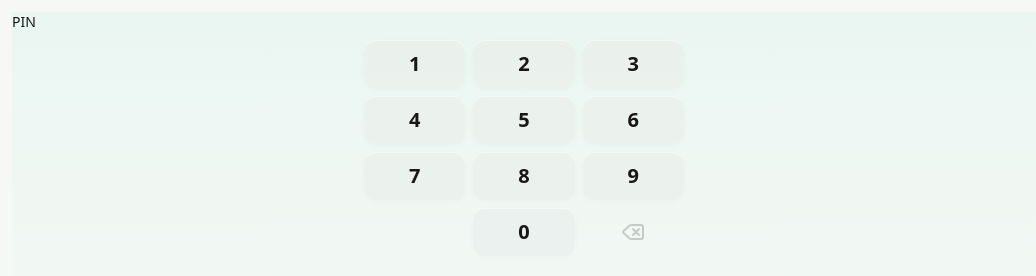
Test case: PinKeypad › enters, limits and deletes digits without a text input
This screenshot has width=1036, height=276.
Click the button "4" at [415, 120], box [364,96,465,144]
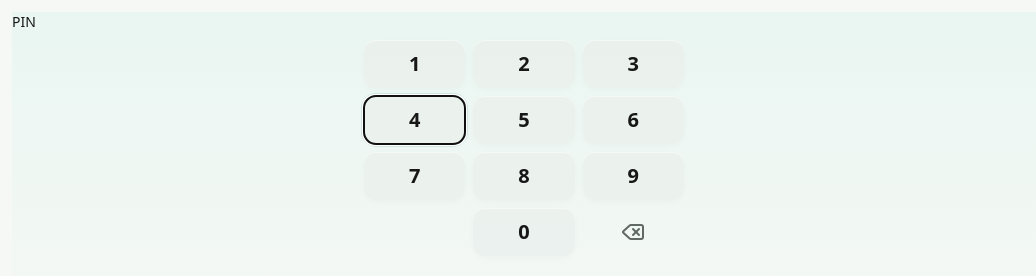
Click the button "8" at [524, 176], box [473,152,575,200]
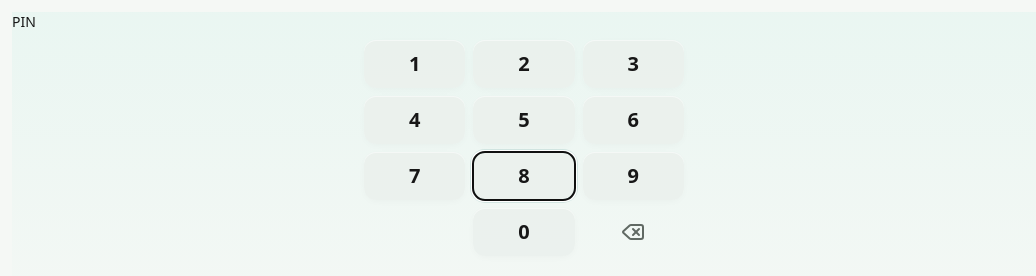
Click the button "2" at [524, 64], box [473,40,575,88]
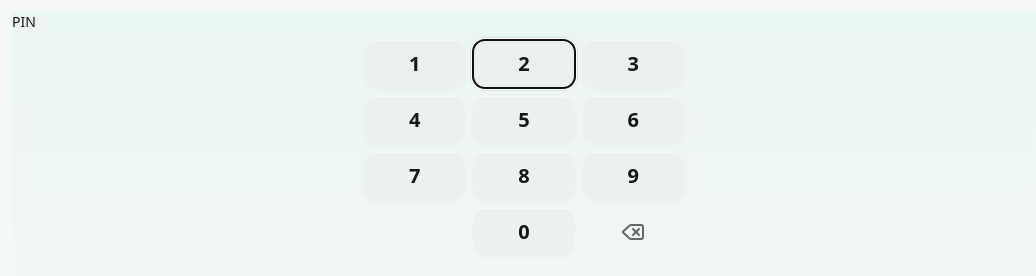
Click the button "6" at [633, 120], box [583,96,684,144]
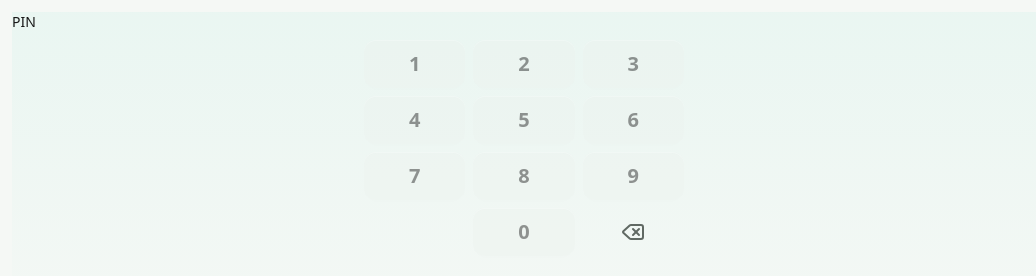
Now the button "1" is disabled, box [364,40,465,88]
Click the button named "Delete last digit" at [633, 232], box [583,208,684,256]
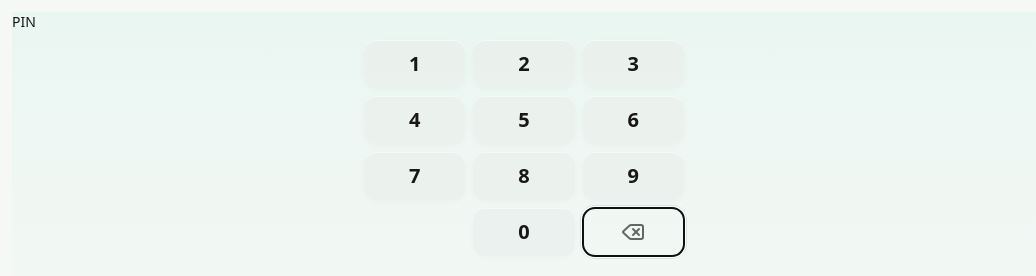
Now the button "1" is enabled, box [364,40,465,88]
